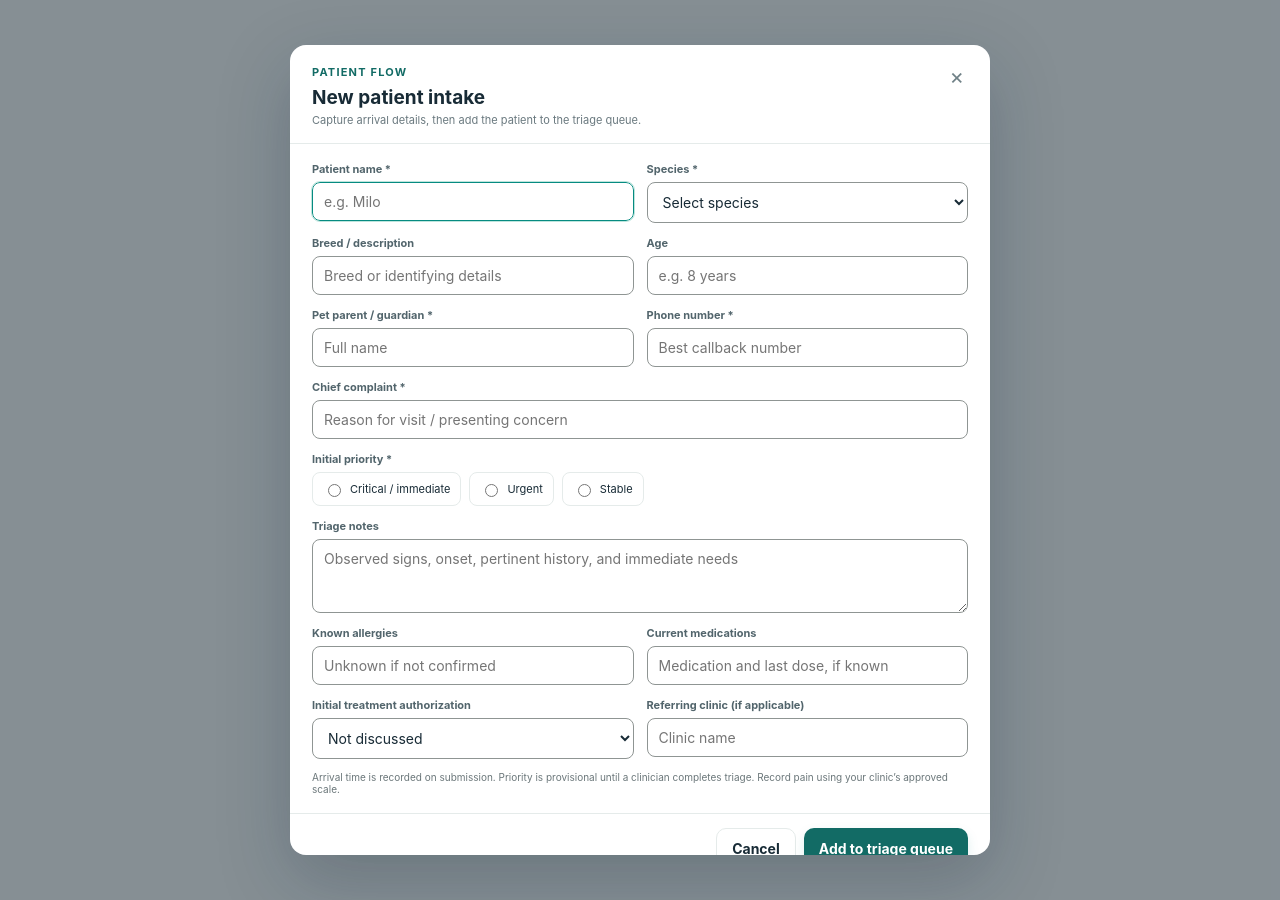
it: IntakeDialog › says plainly when the patient couldn't be added
In the field labelled "Patient name *": (473, 202) [312,182,634,221], type " Toby "
Select "Dog" in the dropdown labelled "Species *": (807, 202) [646,182,968,223]
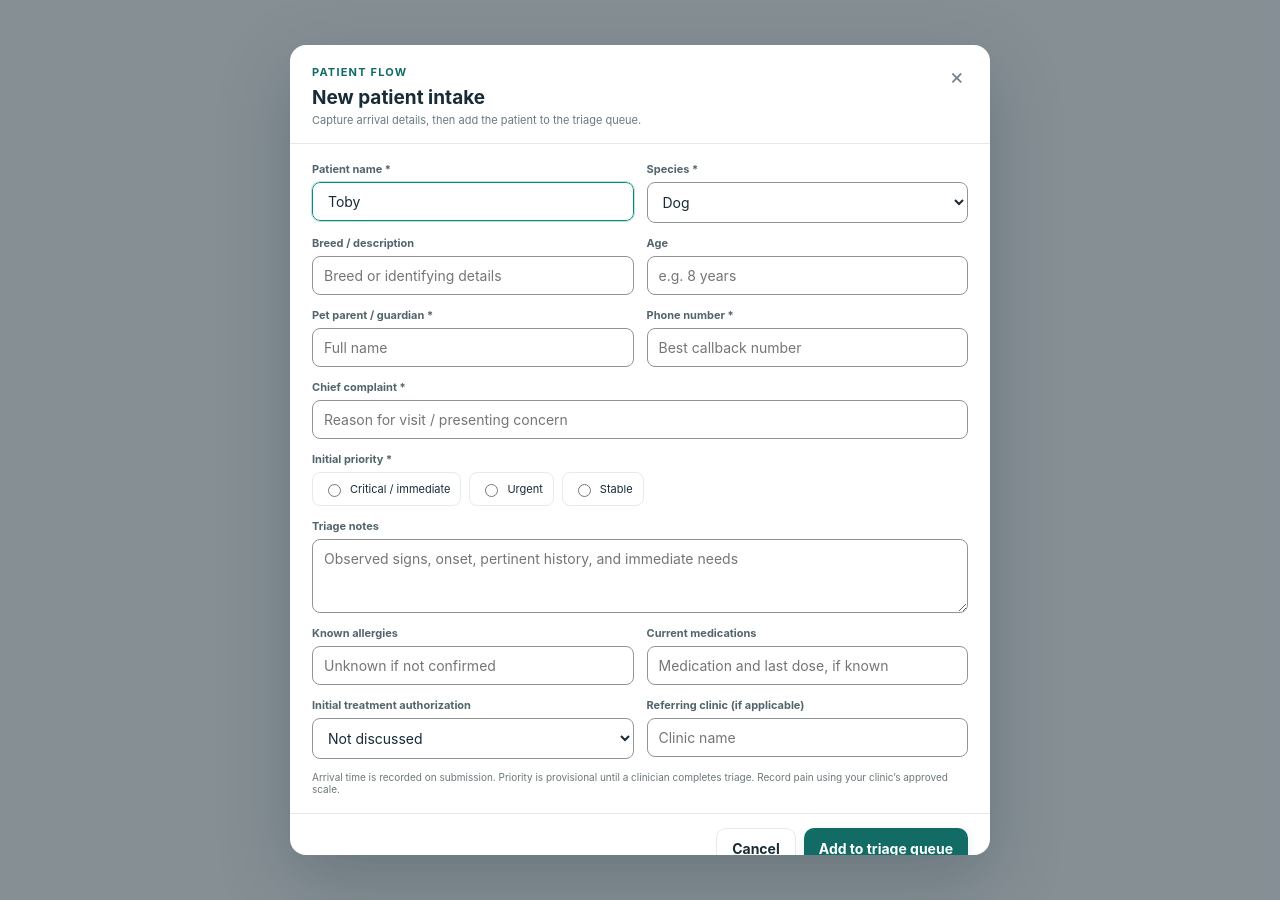
In the field labelled "Pet parent / guardian *": (473, 348) [312,328,634,367], type "Jo Mills"
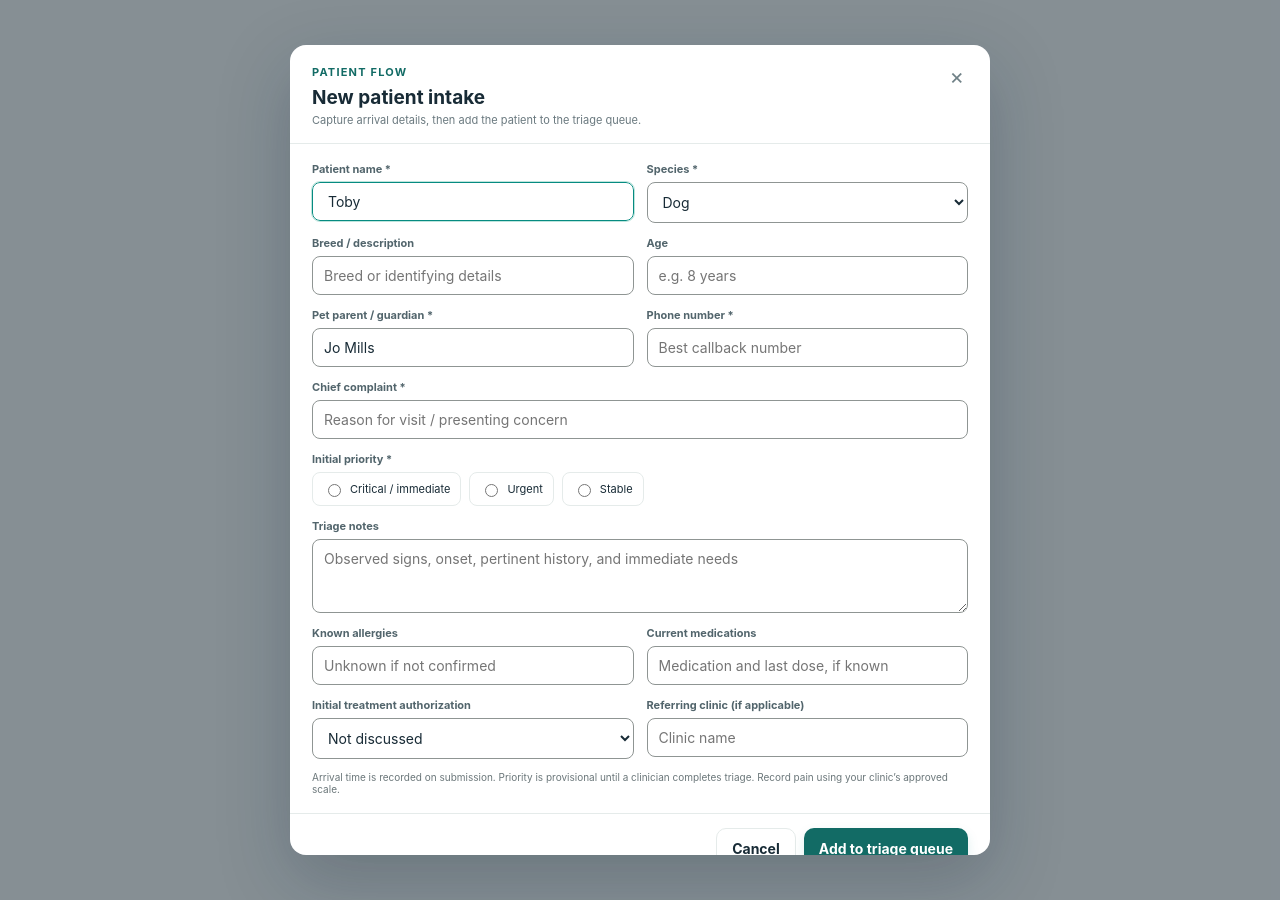
In the field labelled "Phone number *": (807, 348) [646,328,968,367], type "312-555-0177"
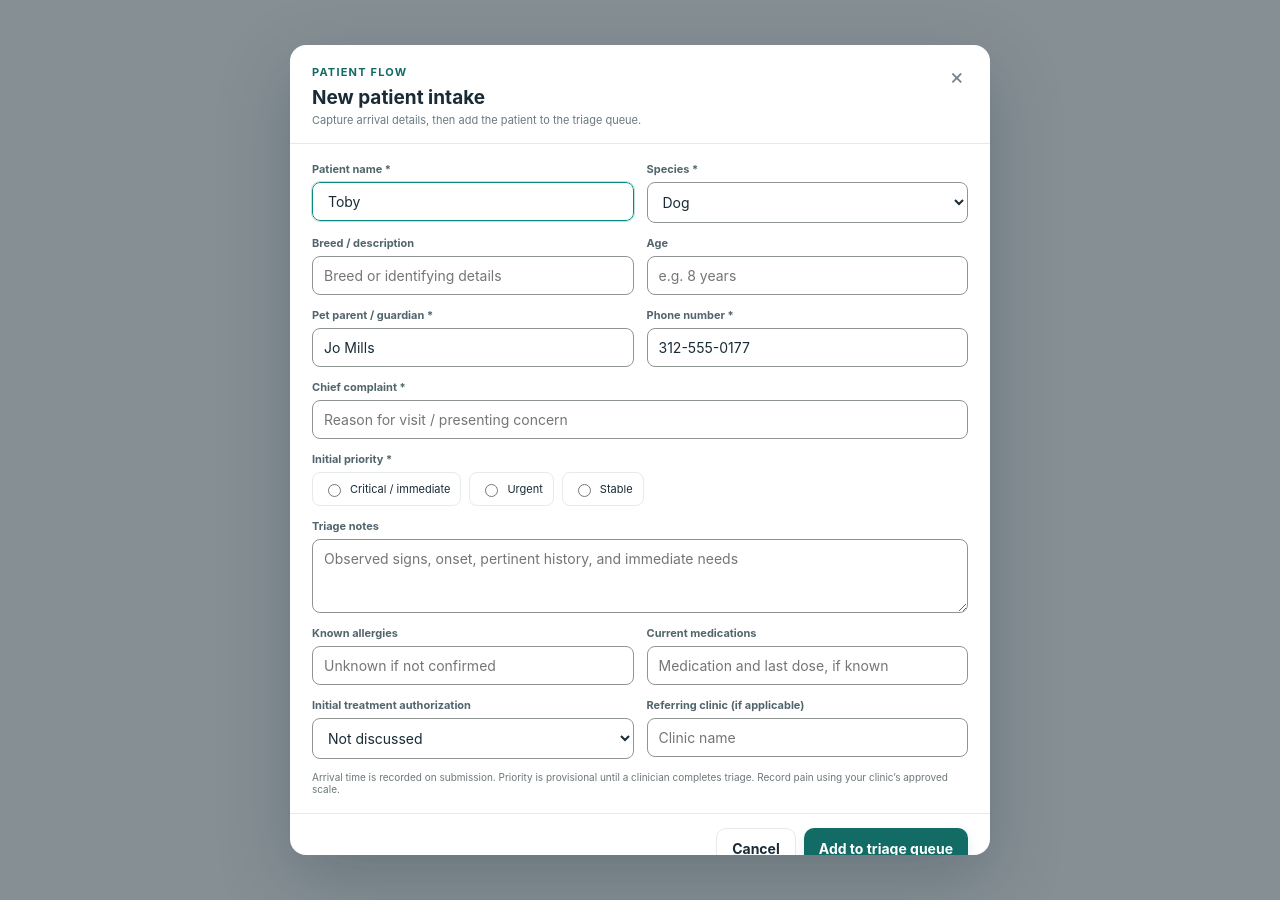
In the field labelled "Chief complaint *": (640, 420) [312,400,968,439], type "Acute vomiting"
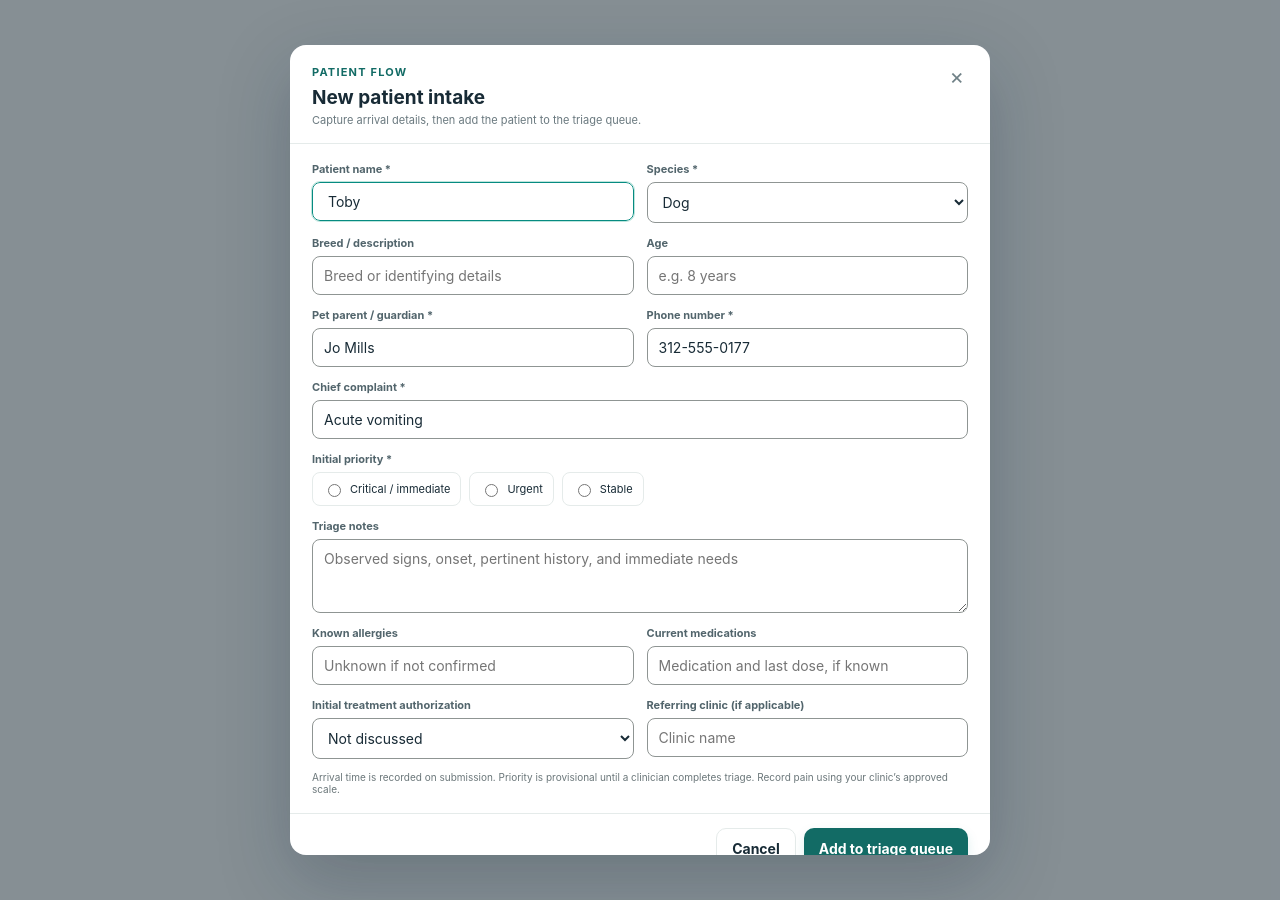
Click the radio button labelled "Urgent": click(492, 490) [485,484,498,497]
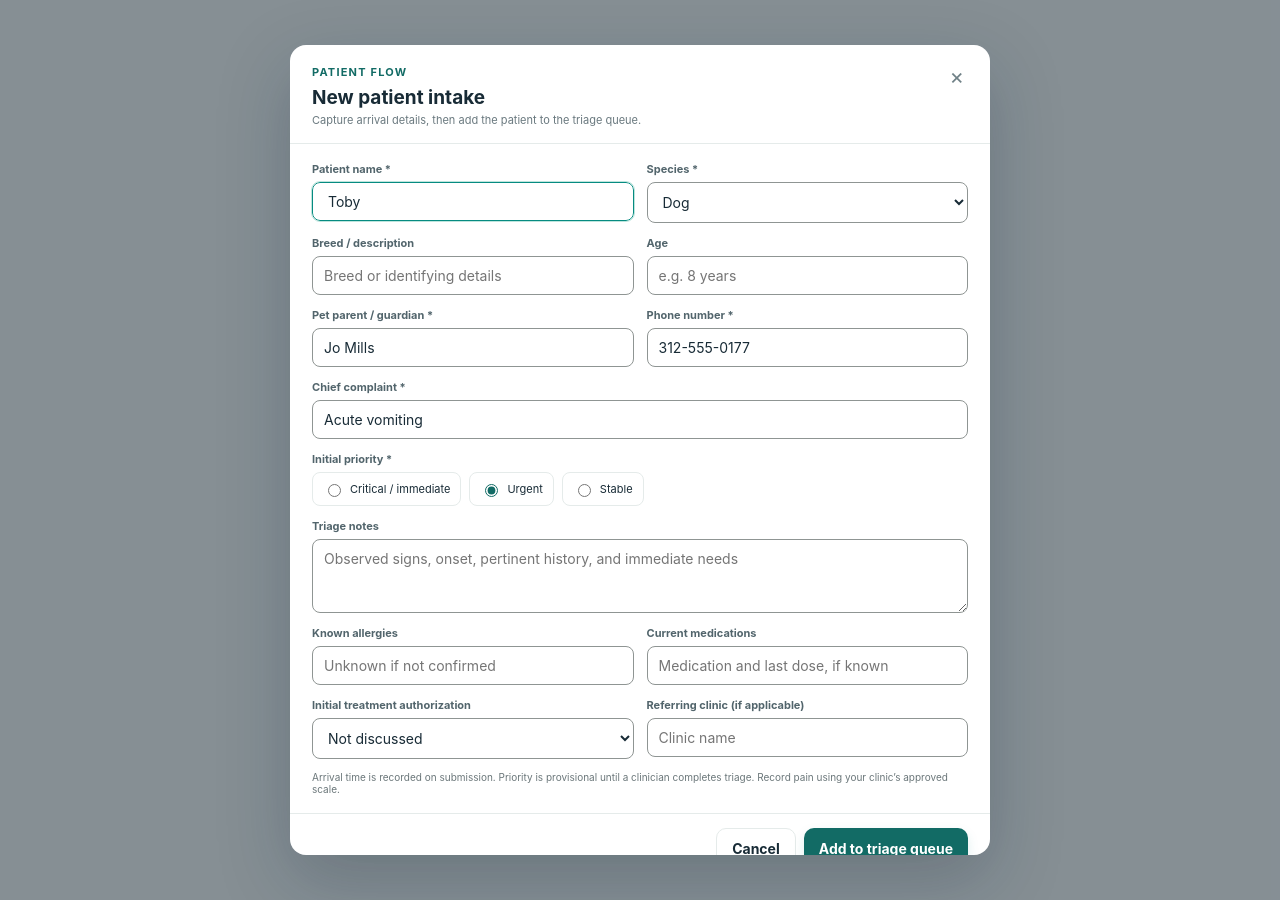
Click the button "Add to triage queue": click(886, 848) [804,828,968,868]
(page scrolled)
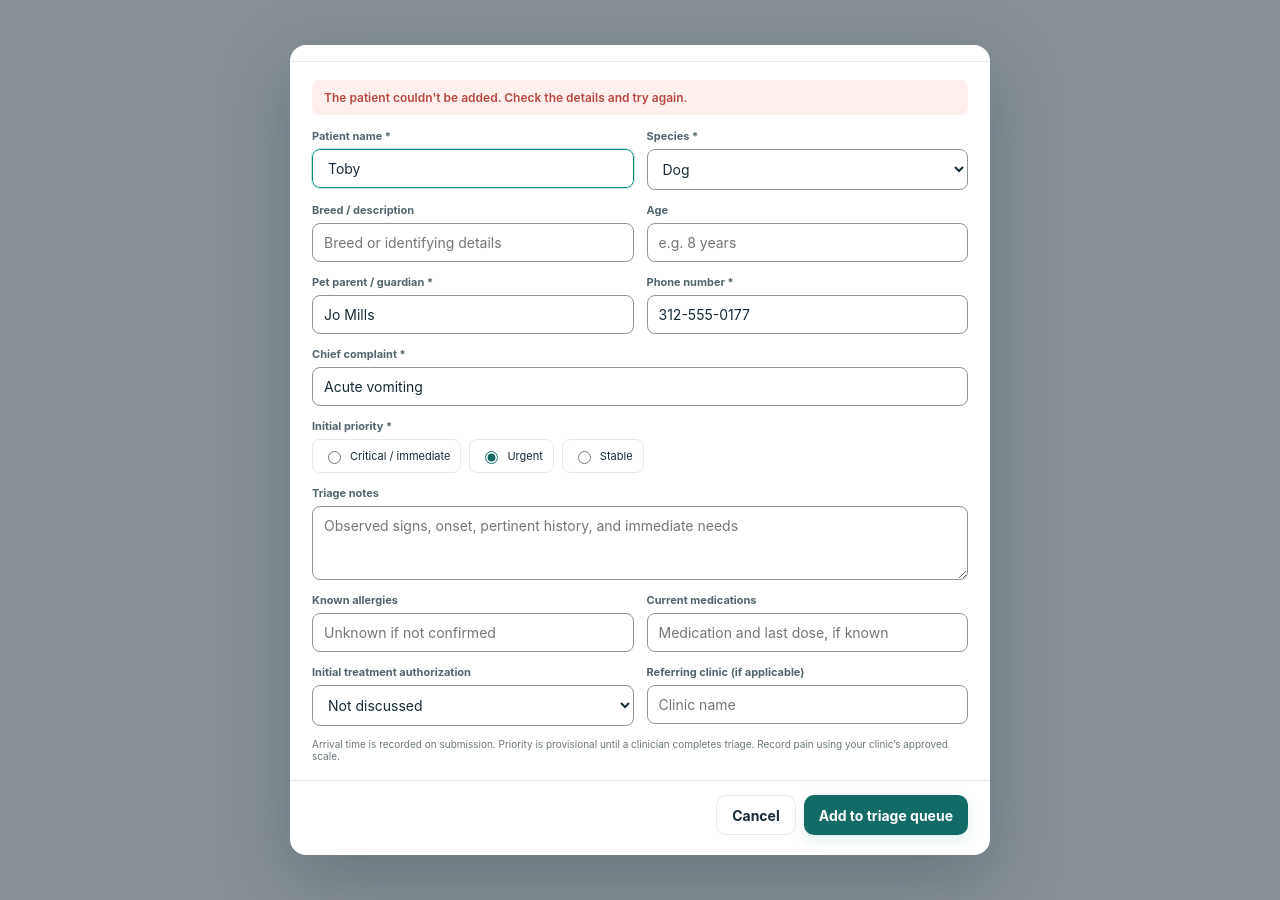
Check: the button "Add to triage queue" is enabled, box [804,795,968,835]
Check: the message reads "The patient couldn't be added. Check the details and try again.", box [324,90,687,105]
